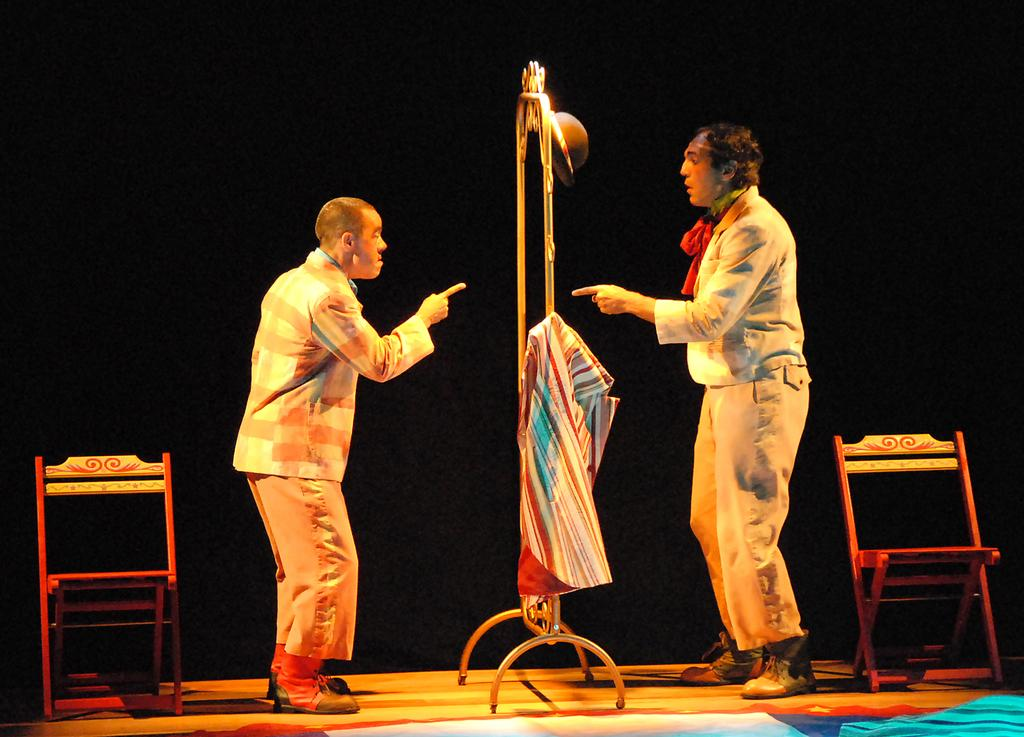Chair: (833, 429, 1014, 692), (36, 452, 186, 718)
